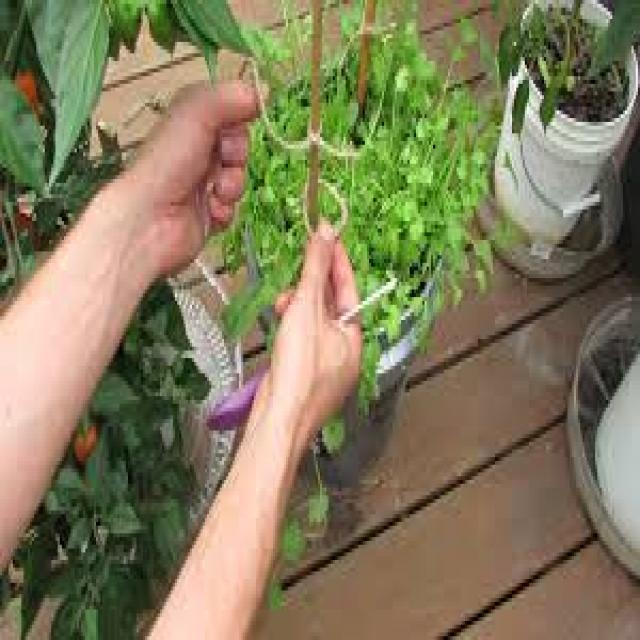organic waste: (378, 12, 484, 350), (322, 49, 380, 248), (245, 8, 318, 148), (245, 126, 301, 274), (218, 225, 282, 328), (2, 202, 39, 267), (140, 0, 177, 53), (352, 244, 384, 301), (362, 308, 380, 408), (109, 0, 141, 50), (300, 472, 330, 522), (282, 514, 309, 564), (11, 57, 34, 99), (73, 416, 96, 454), (320, 415, 348, 446), (104, 15, 120, 61)
